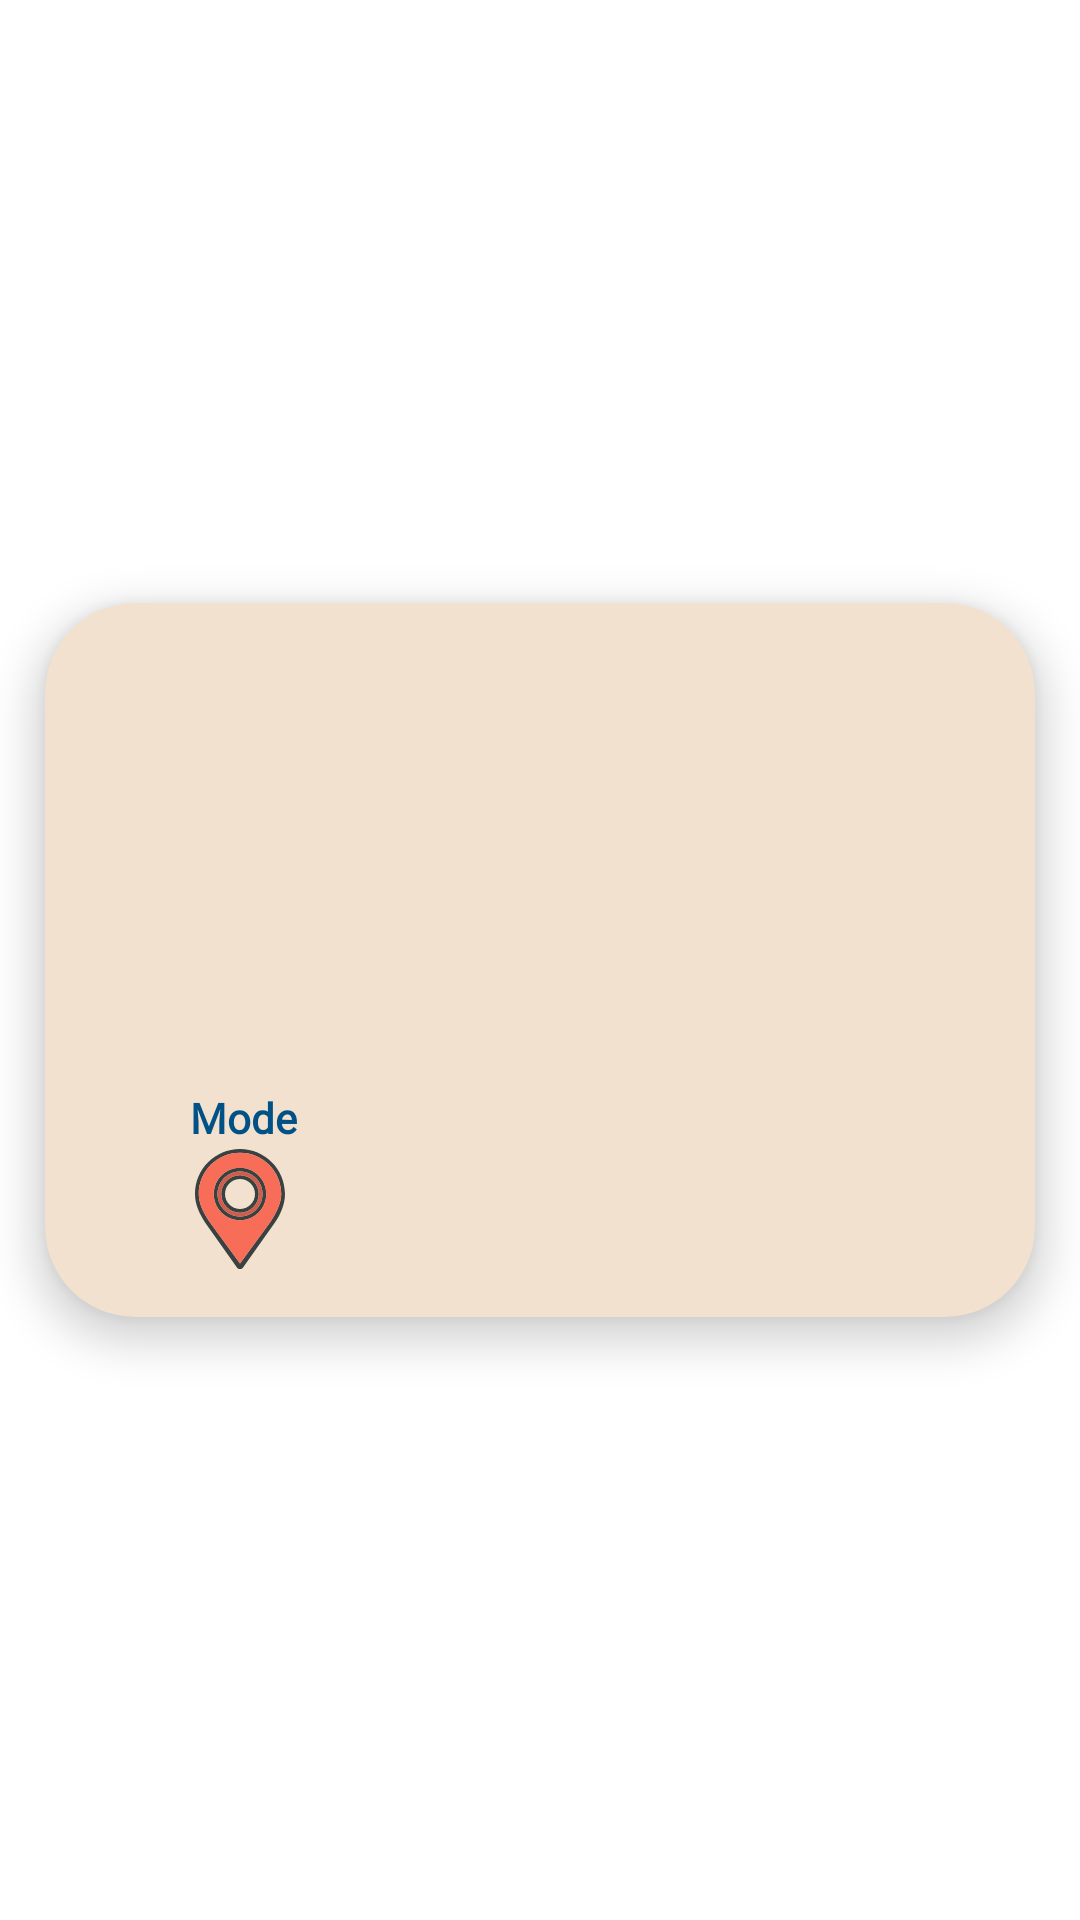

Screen size 1080 x 1920. Icon name, then its box in pixels as box=[x1, y1, x2, y2]:
location pin: box=[195, 1149, 285, 1269]
